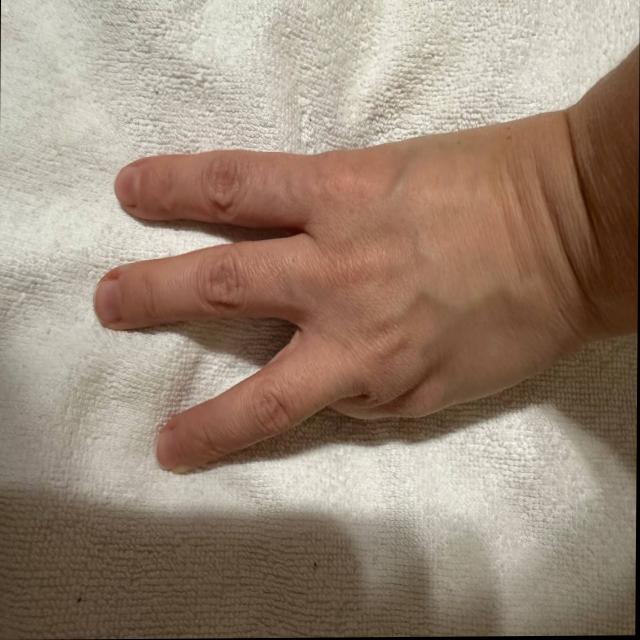m: (84, 88, 546, 501)
